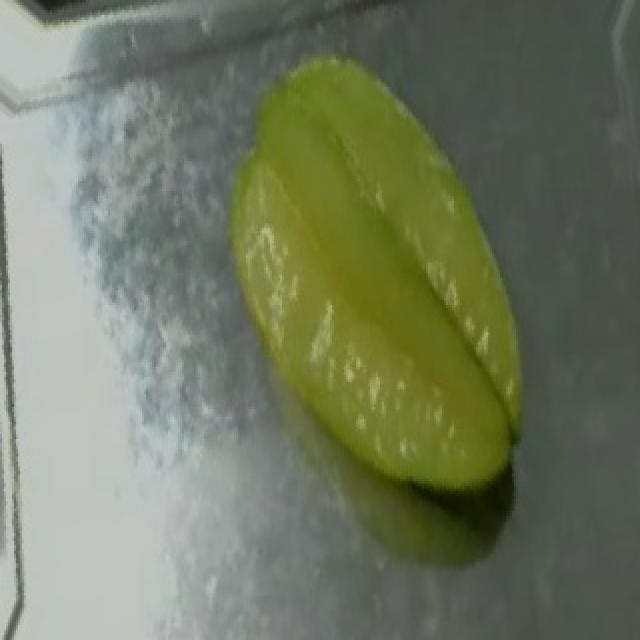fruit: (196, 18, 544, 410)
